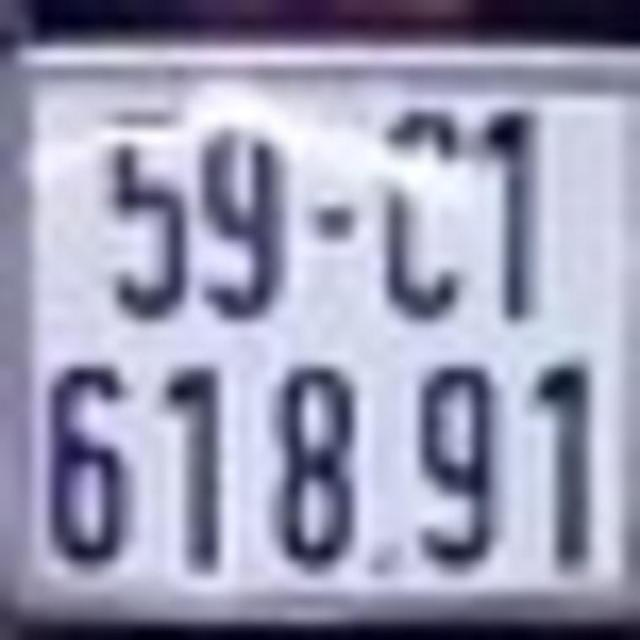1: (530, 356, 593, 586), (167, 355, 224, 575), (484, 102, 536, 332)
5: (111, 106, 188, 321)
6: (47, 363, 126, 562)
8: (275, 358, 359, 582)
9: (198, 106, 284, 328), (414, 358, 496, 564)
C: (383, 105, 465, 322)
